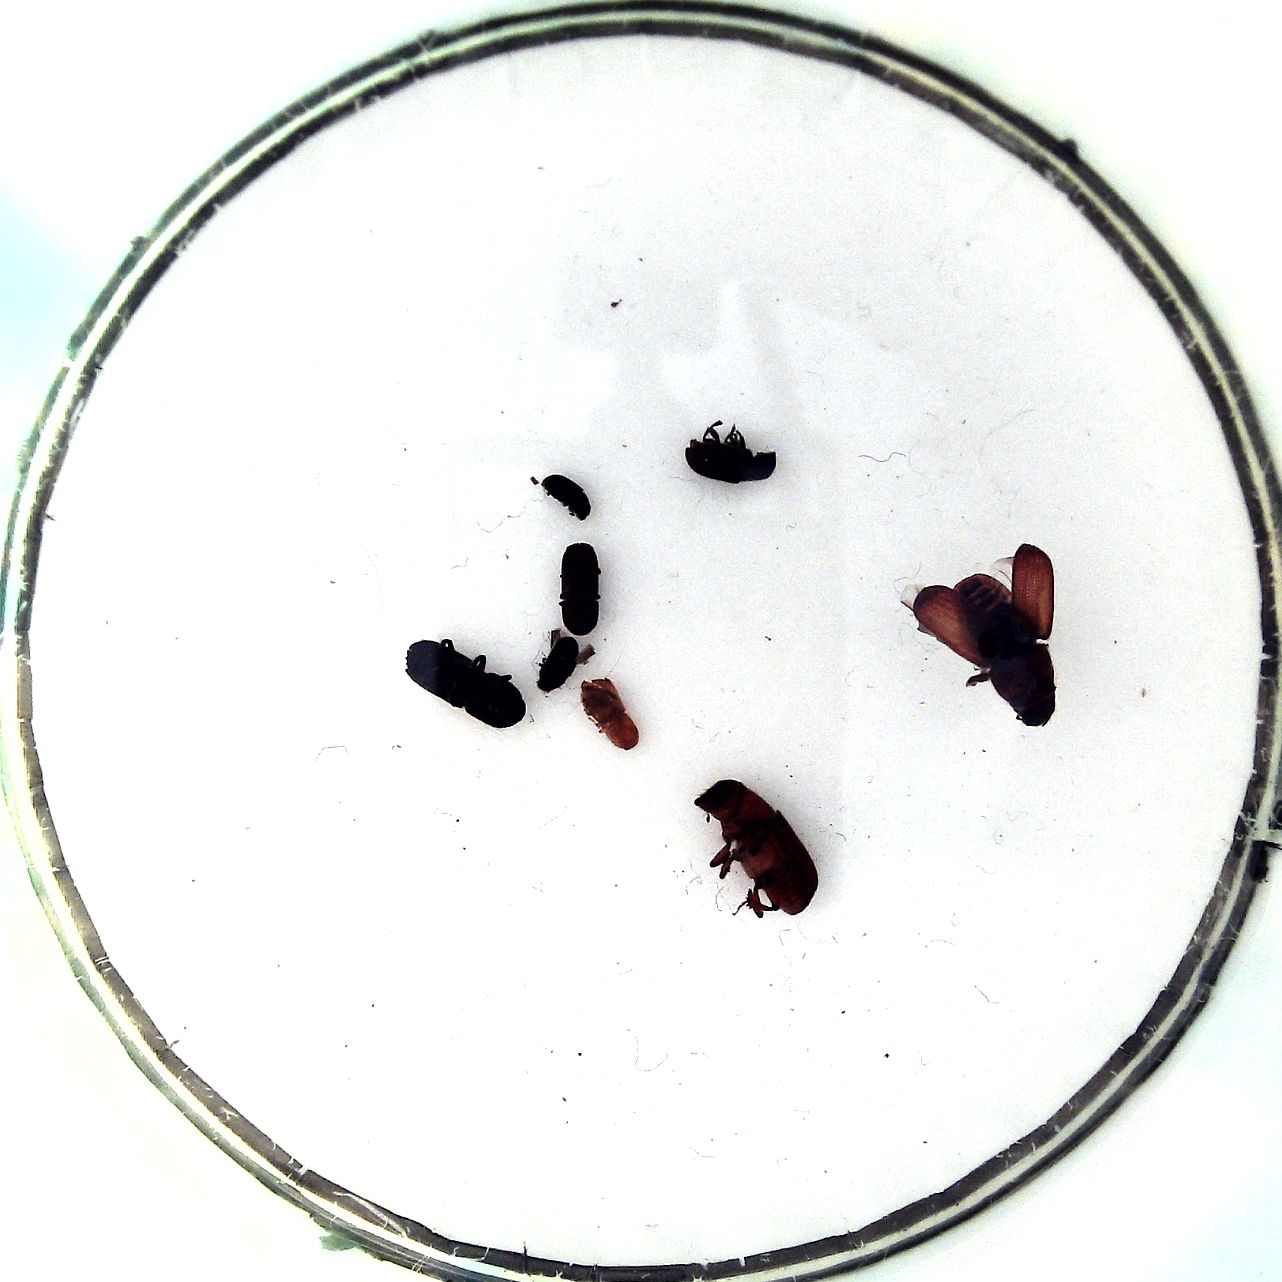Boerner: (405, 637, 526, 728)
Leconte: (693, 780, 819, 913), (954, 573, 1055, 727)
acuminatus: (537, 637, 580, 691)
armandi: (684, 438, 776, 484)
coleoptera: (580, 677, 639, 750), (541, 474, 591, 521)
linnaeus: (560, 541, 600, 636)
